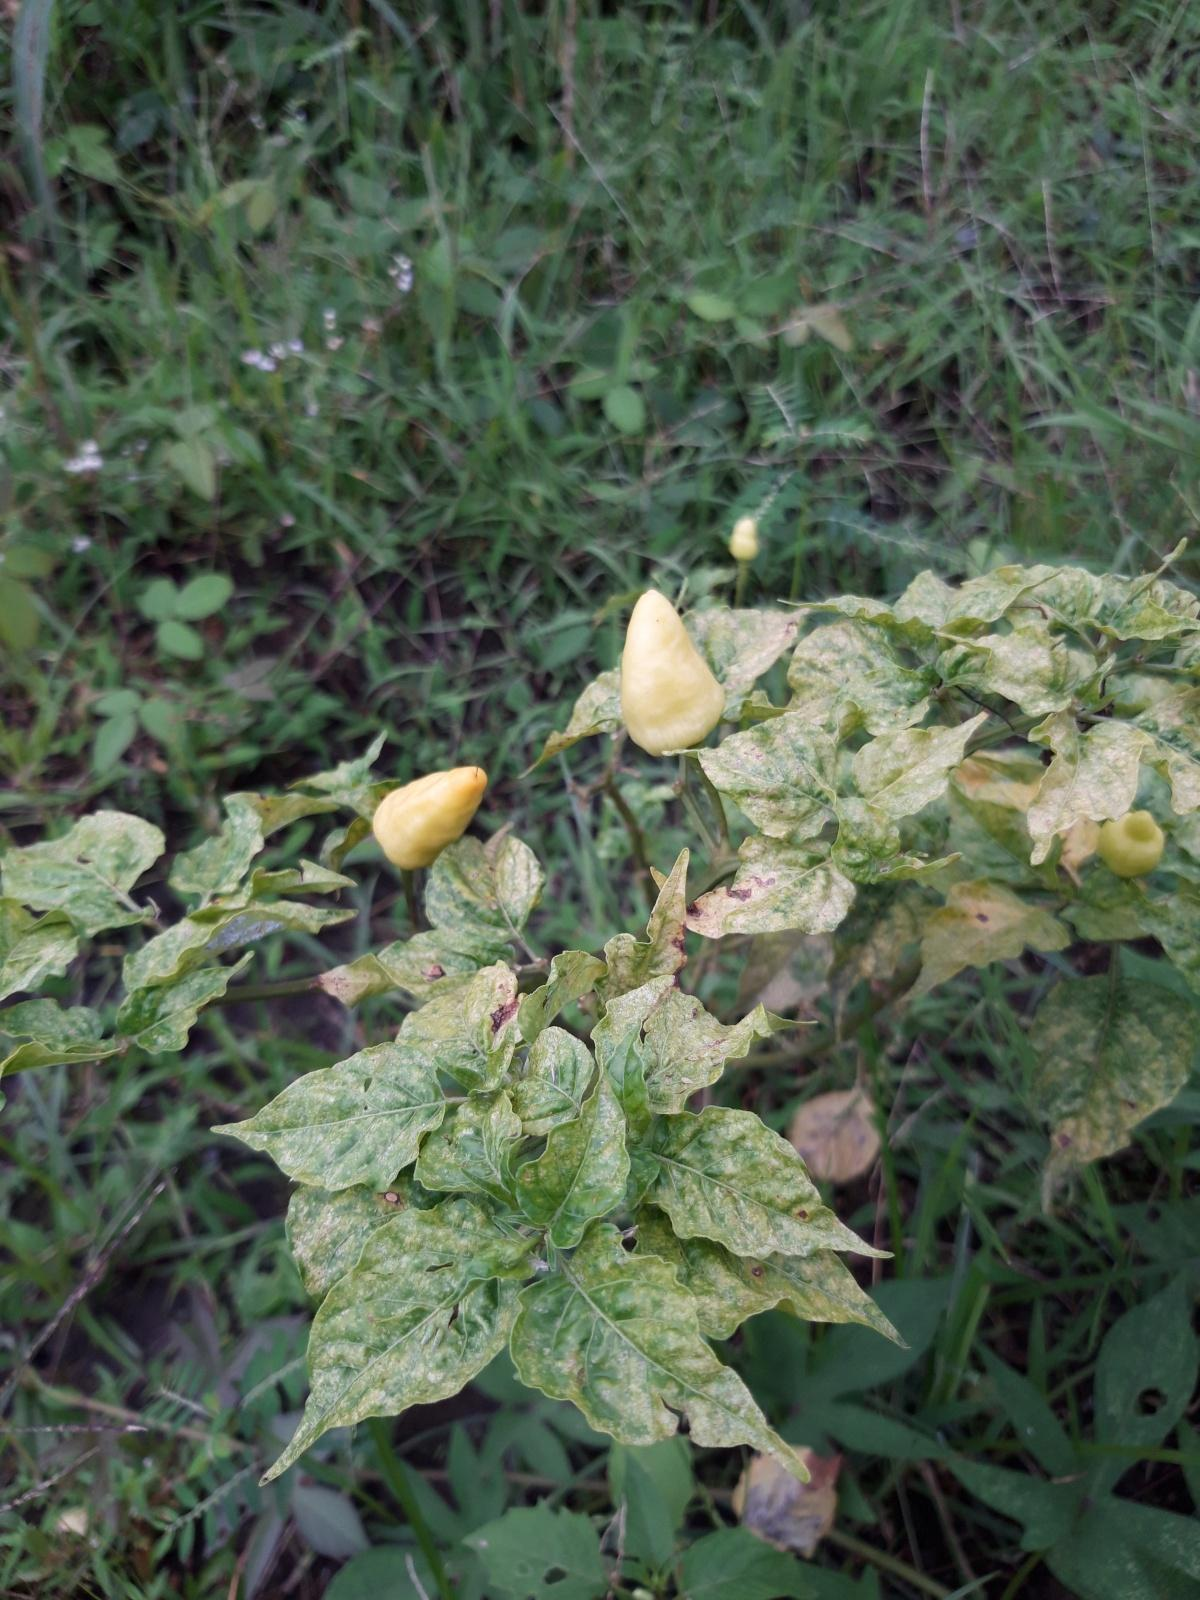cabai_normal: (619, 588, 725, 757), (371, 765, 489, 871), (1099, 811, 1166, 878)
